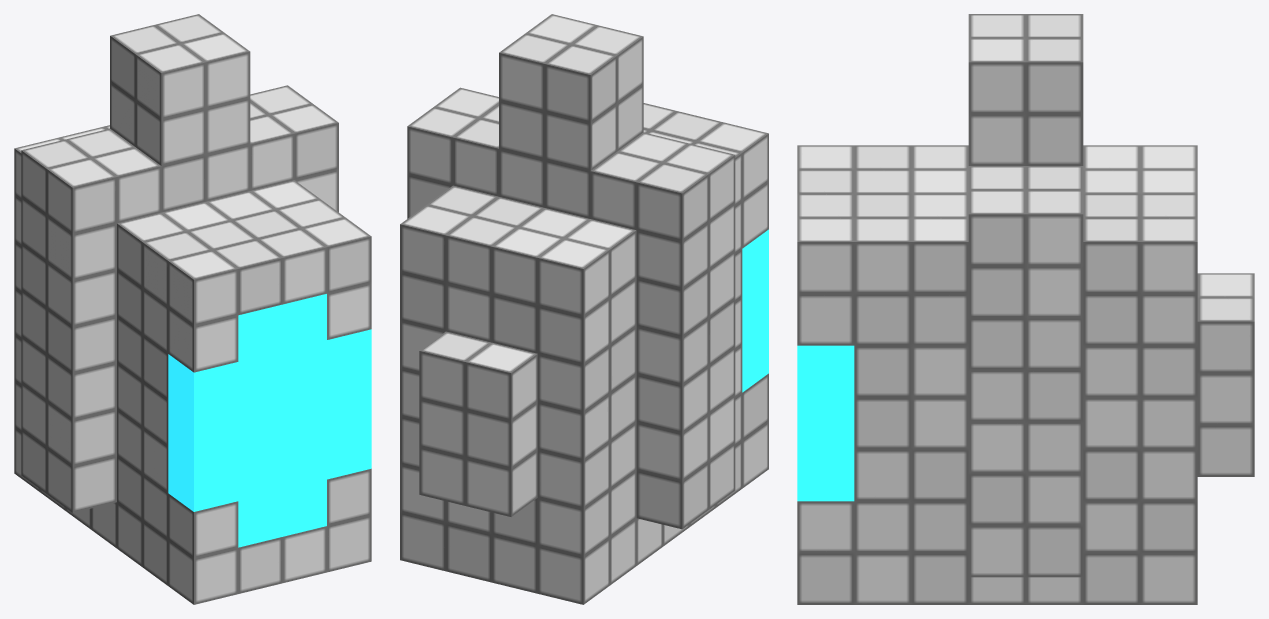
The model's file is par_light_blue.glb.
The picture shows the model from 3 angles, left to right: view 1: azimuth 30°, elevation 25°; view 2: azimuth 150°, elevation 25°; view 3: azimuth 270°, elevation 25°; orthographic projection. The views are drawn at different scales.
Parts seen in each view (by area): view 1: par_light_blue; view 2: par_light_blue; view 3: par_light_blue.
Boxes of the visible parts, x1,y1,x2,y2 form: par_light_blue: [14, 14, 371, 604]; par_light_blue: [400, 14, 768, 604]; par_light_blue: [797, 14, 1254, 604].
Size of the model in its own units: 0.3 by 0.5 by 0.4.
Materials: 3 (2 with a texture image).
